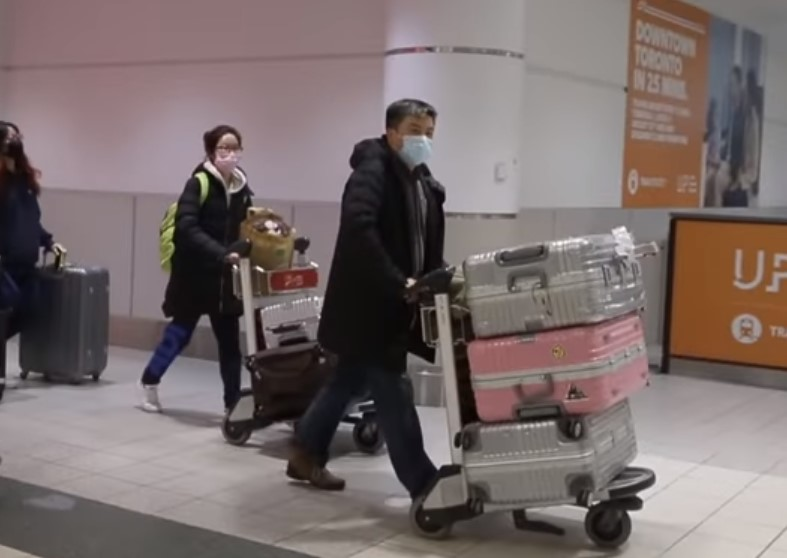face_with_mask: (385, 101, 434, 167), (209, 128, 242, 170)
